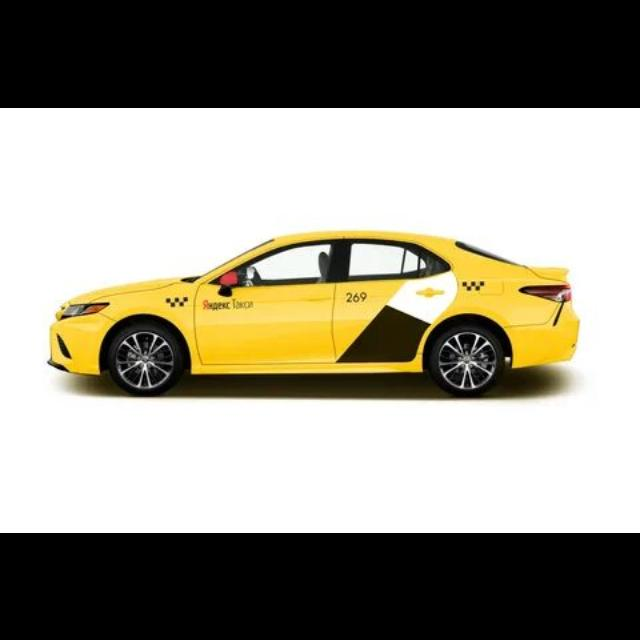taxi: (48, 229, 581, 398)
